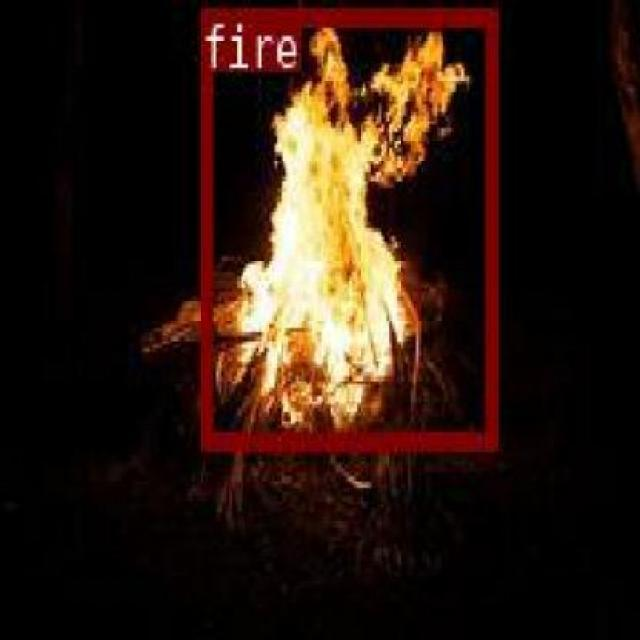Fire: (198, 6, 494, 445)
